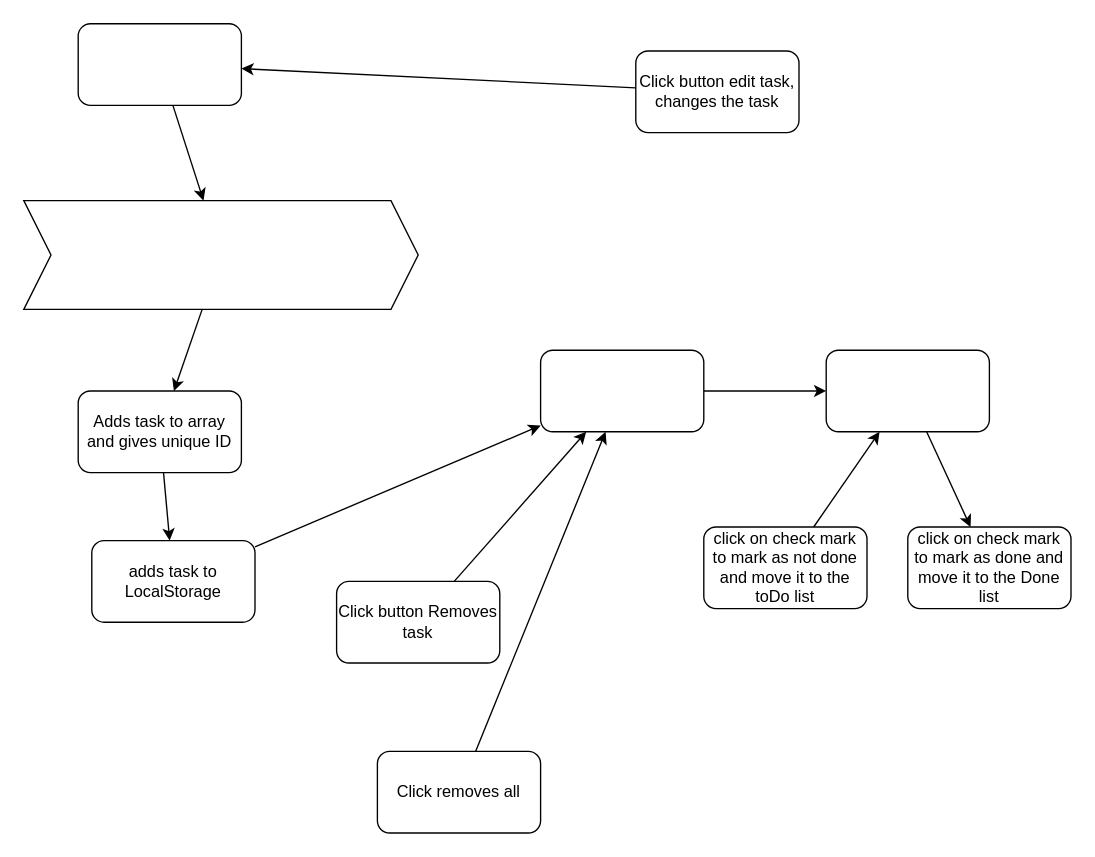
Some shapes in this 1095 by 857 pixel diagram are drawn without their labels. Here are the shapes that lost their labels. From the top down, the centre of each, then its label:
At (159,63): "Create new task".
At (220,254): "Click Button(CreatenewTask) and add amount".
At (621,390): "checks elements in localStorage and sends to DOM".
At (907,390): "Filters the task and checks if done is true or false".
